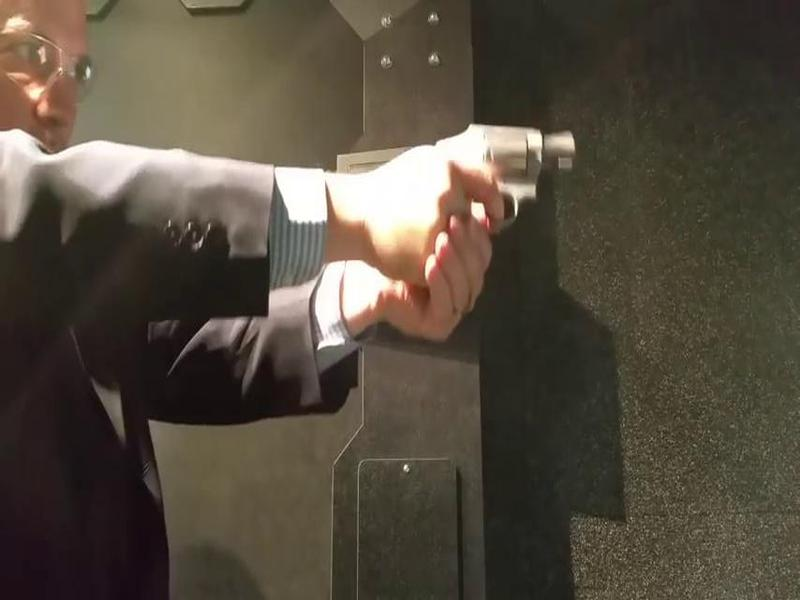Revolver: (427, 109, 589, 256)
